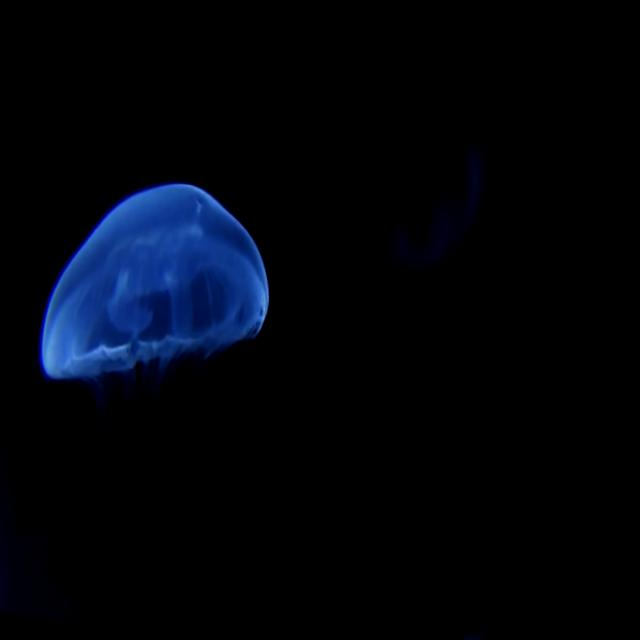Moon-jellyfish: (41, 176, 273, 378)
